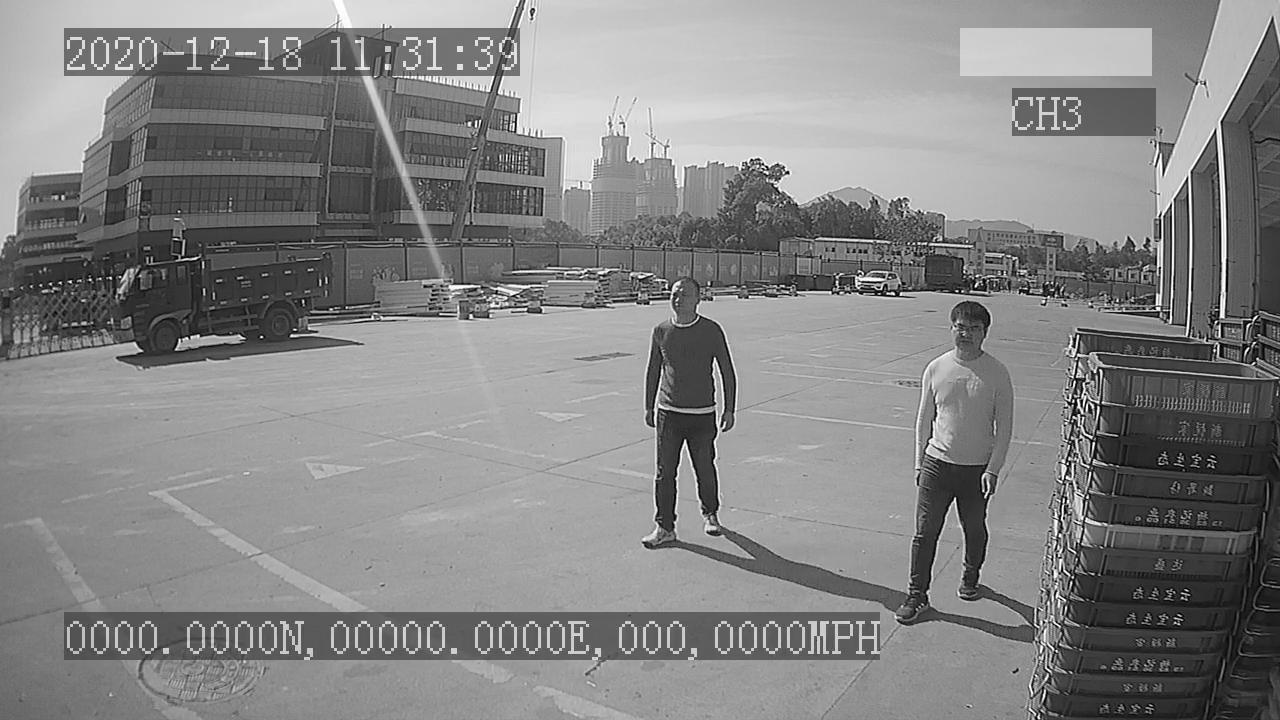person: (894, 295, 1016, 623), (637, 278, 736, 551)
